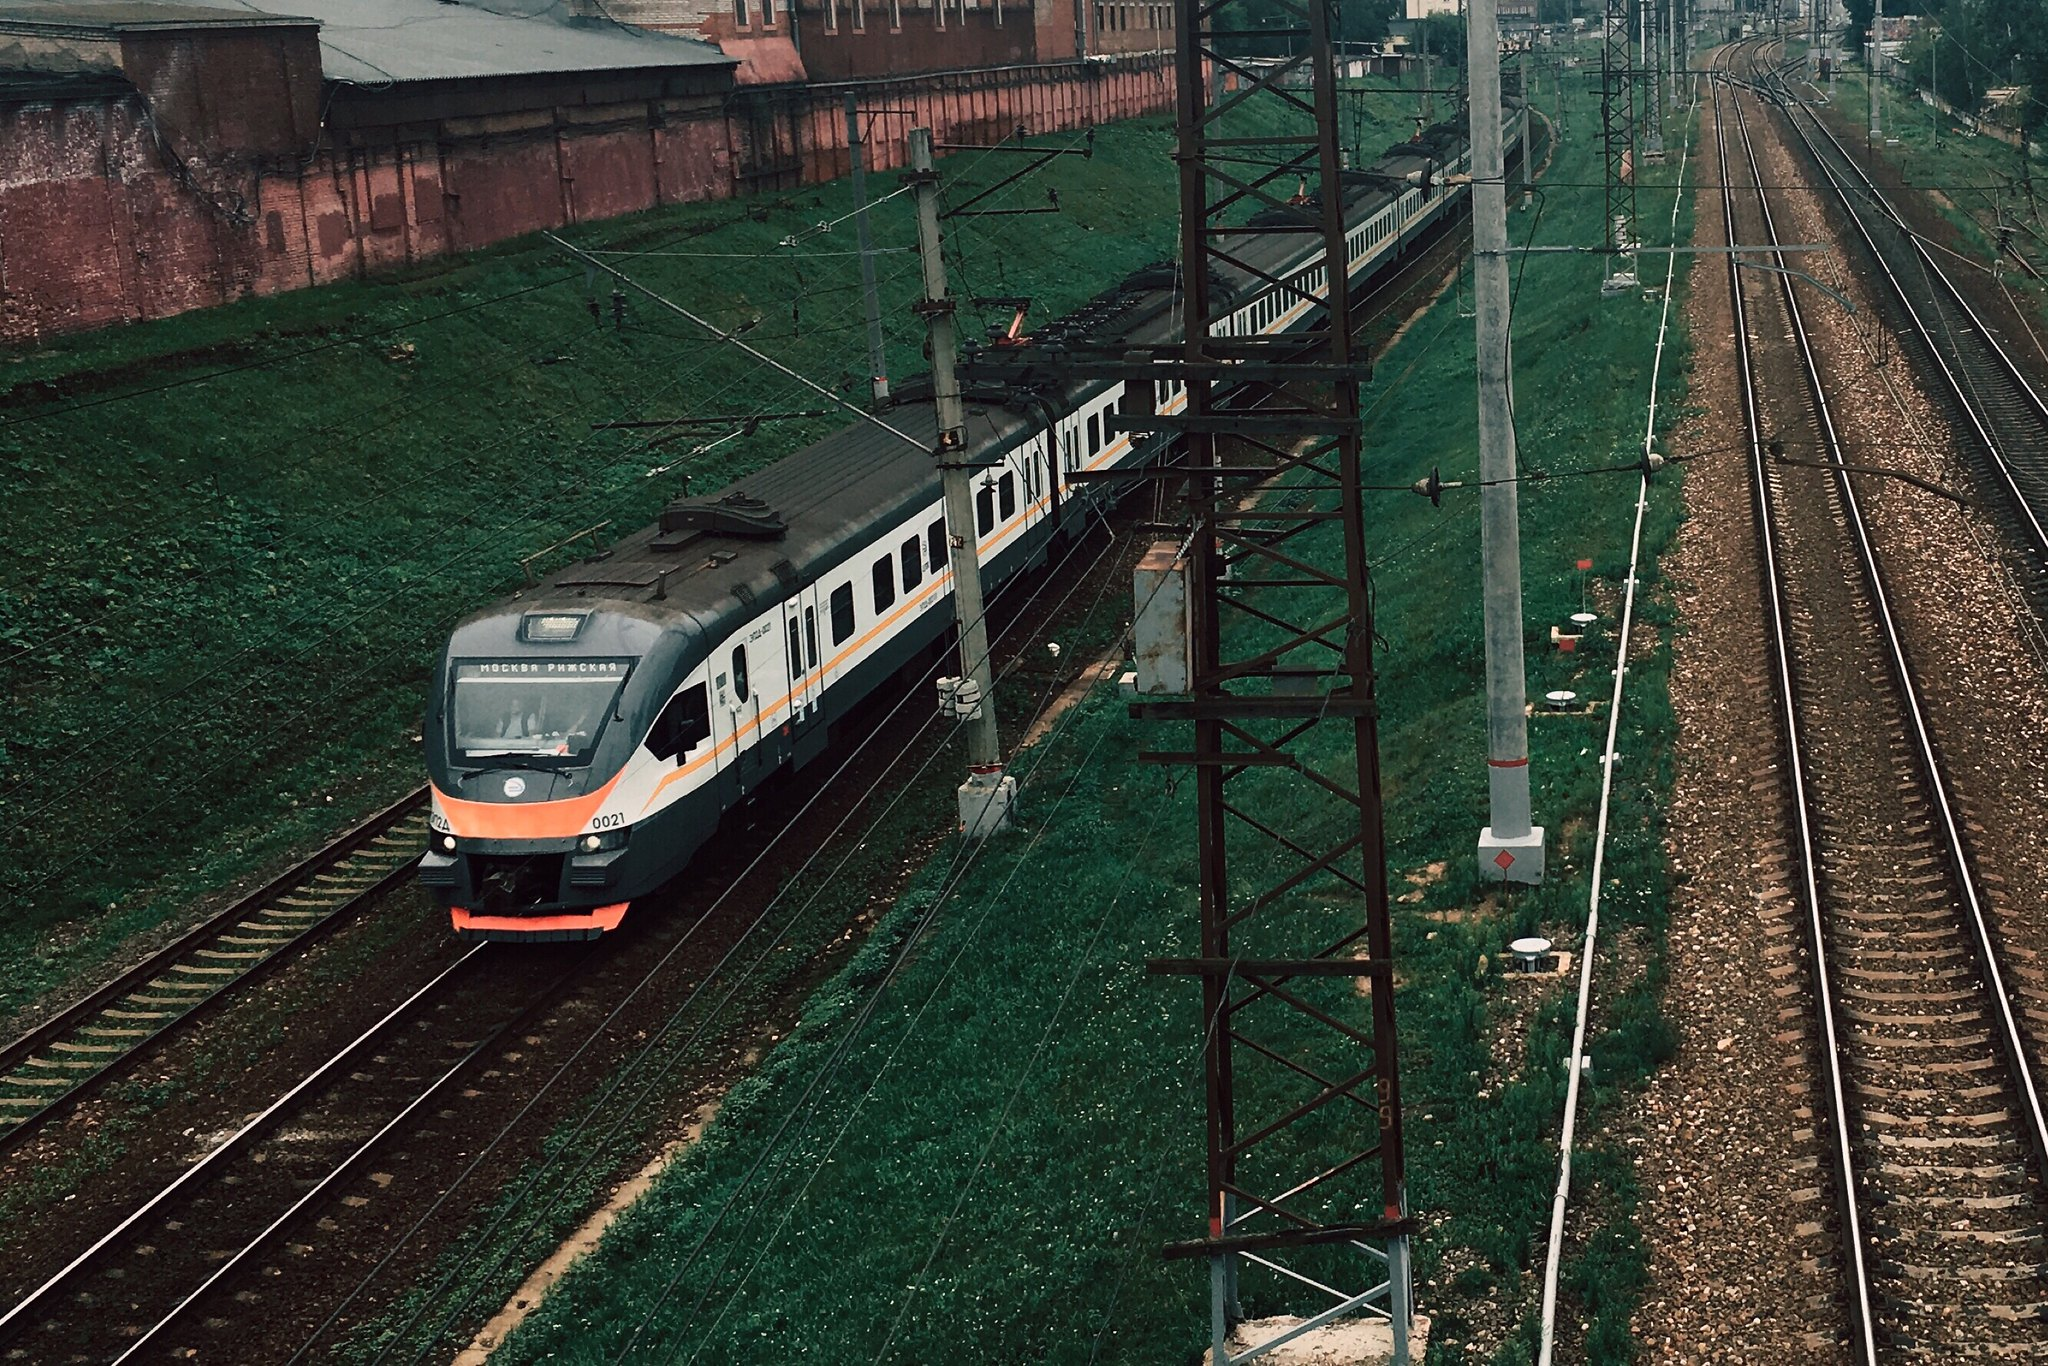train: (402, 564, 766, 957)
